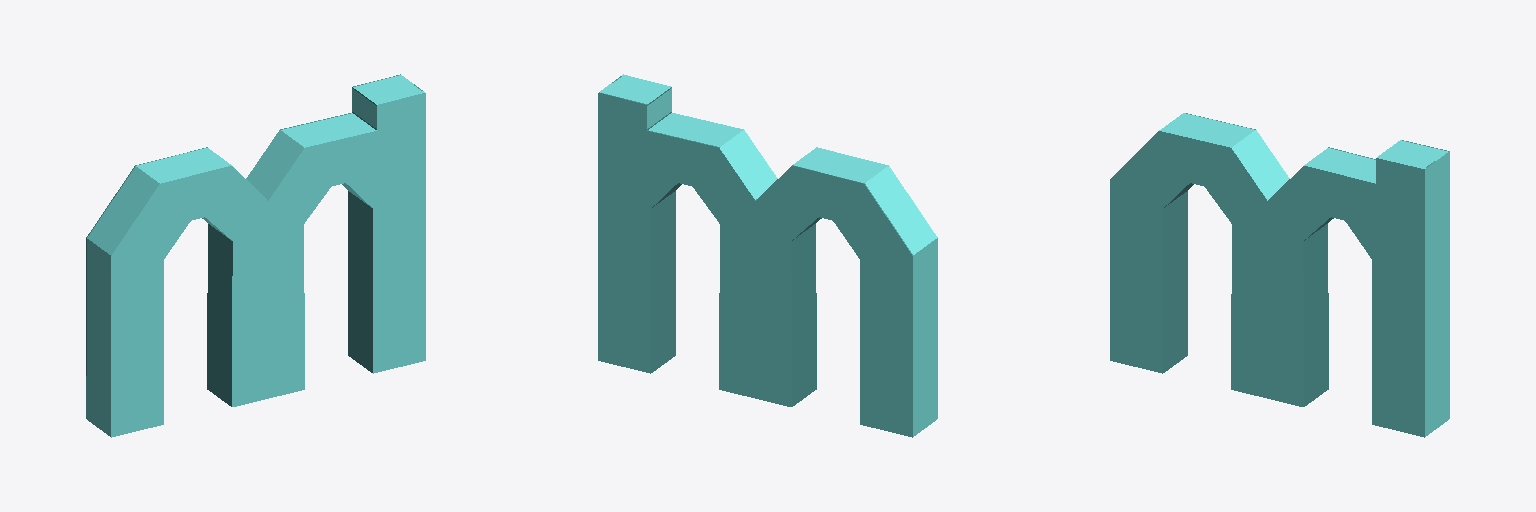
3 renders of one model, left to right at view 1: azimuth 30°, elevation 25°; view 2: azimuth 150°, elevation 25°; view 3: azimuth 330°, elevation 25°, orthographic.
Parts seen in each view (by area): view 1: 平面.003; view 2: 平面.003; view 3: 平面.003.
Boxes of the visible parts, x1,y1,x2,y2 form: 平面.003: [86, 74, 425, 437]; 平面.003: [598, 74, 937, 437]; 平面.003: [1110, 113, 1449, 437].
Size of the model in its own units: 1.67 by 1.37 by 0.2297.
1 materials, 1 textured.